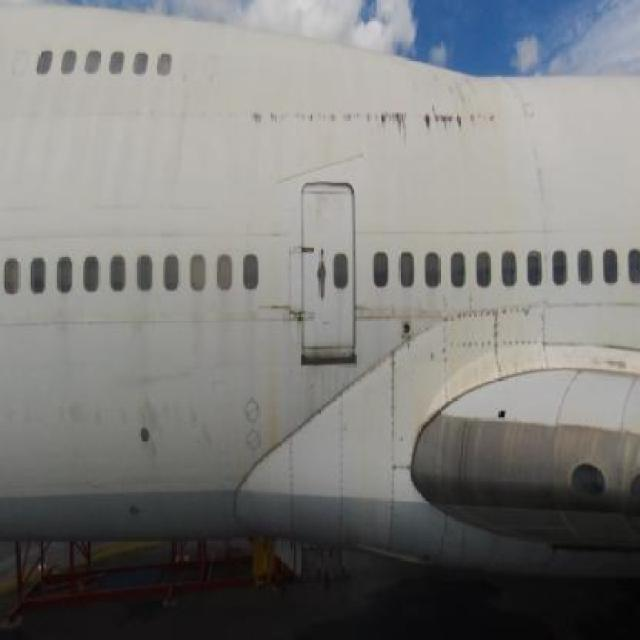Missing-Rivet: (486, 295, 554, 380), (382, 339, 409, 553), (232, 456, 271, 546), (335, 378, 354, 547), (440, 304, 488, 354), (282, 425, 302, 540), (286, 236, 309, 312), (300, 393, 334, 430), (358, 352, 384, 393), (410, 316, 441, 344)
Rust: (262, 341, 282, 456)
Scartch: (238, 90, 502, 145), (250, 303, 322, 334)
